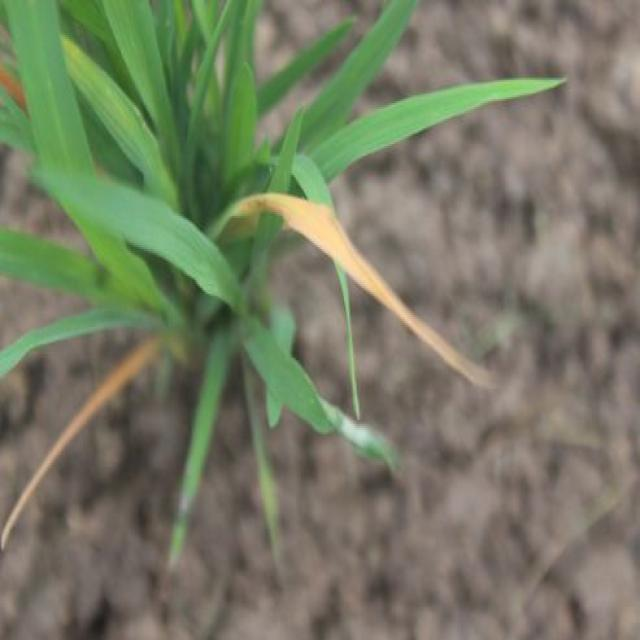Rice Tungro: (218, 186, 472, 377)
